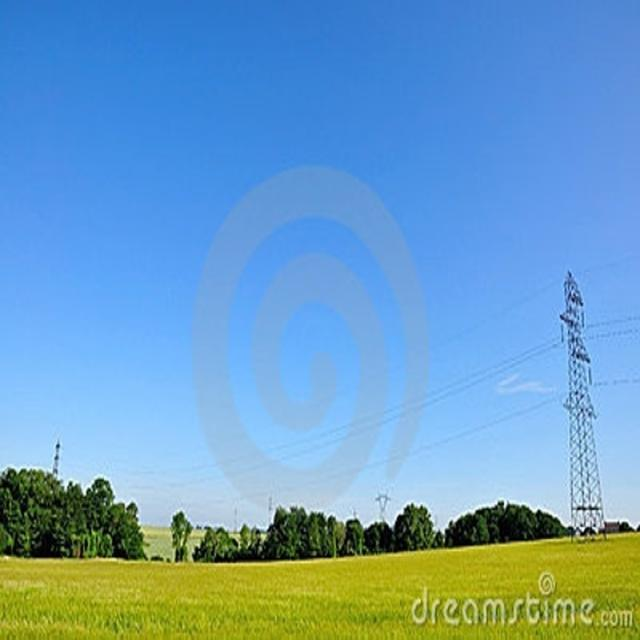non-critical vegetation: (544, 268, 610, 534)
